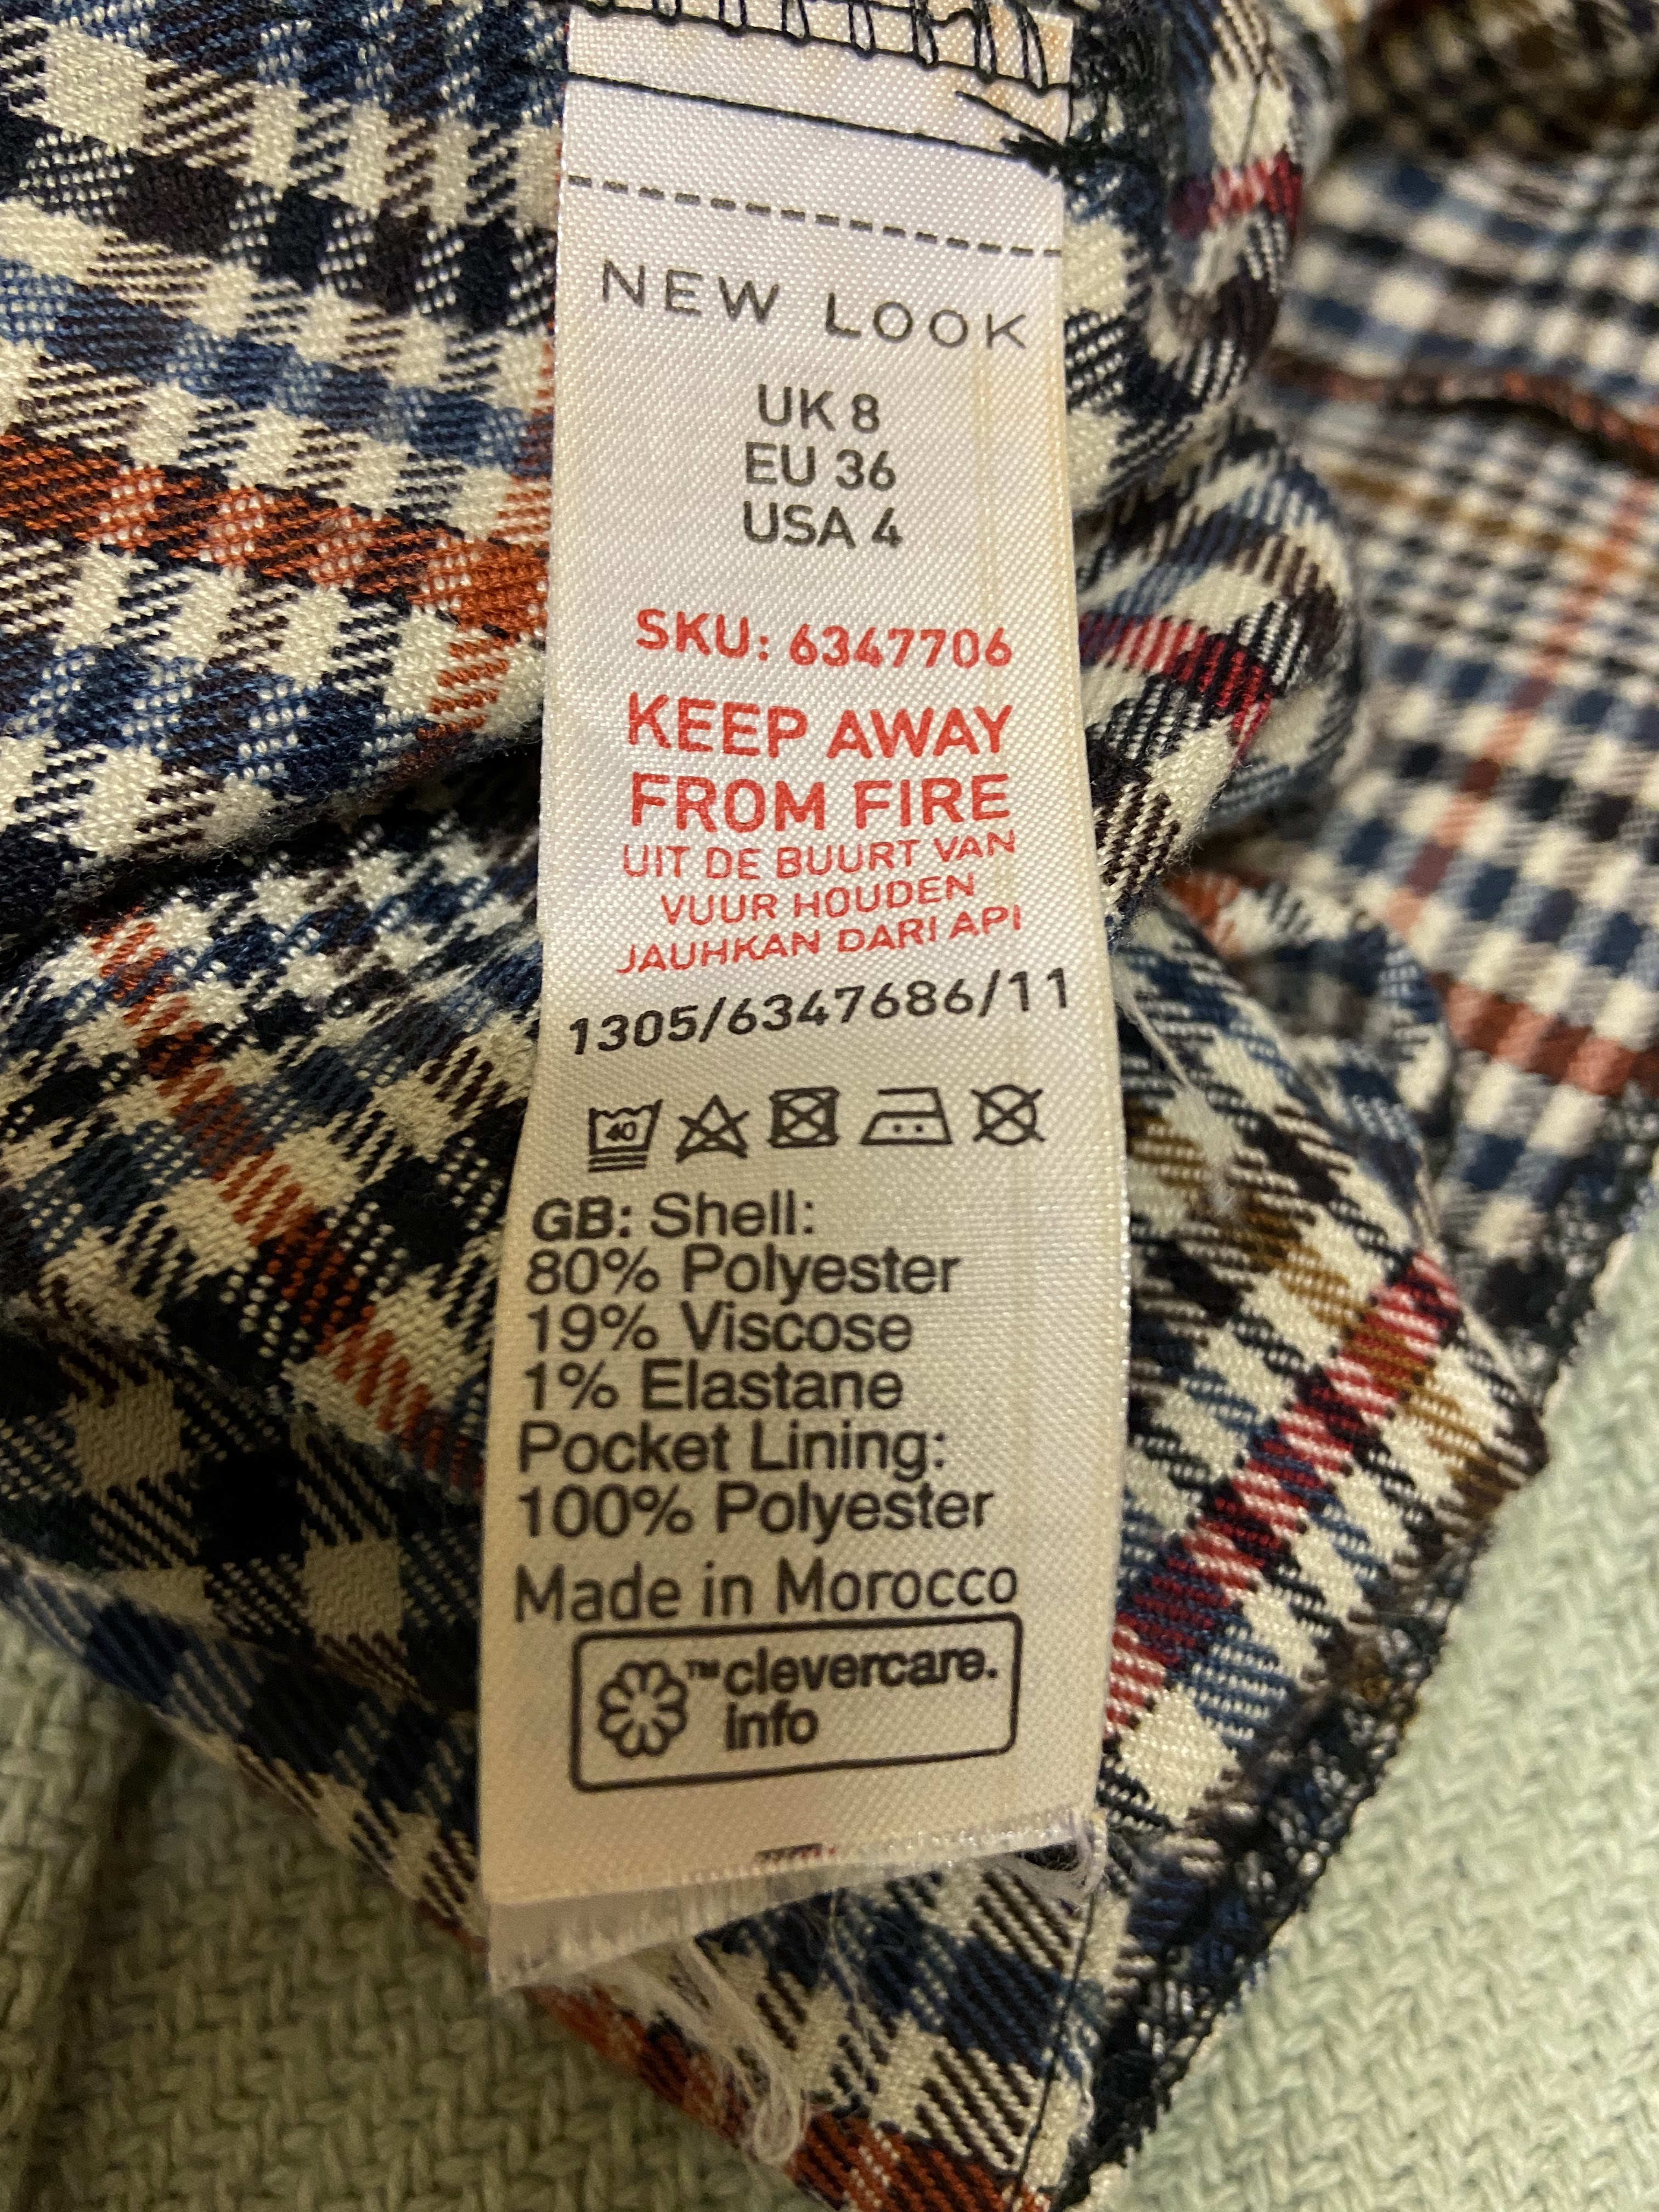do not bleach: (667, 1094, 767, 1186)
do not dry clean: (953, 1055, 1056, 1165)
do not tumble dry: (767, 1080, 856, 1167)
iron medium temp: (863, 1066, 972, 1181)
wash at or below 40: (570, 1085, 666, 1183)
